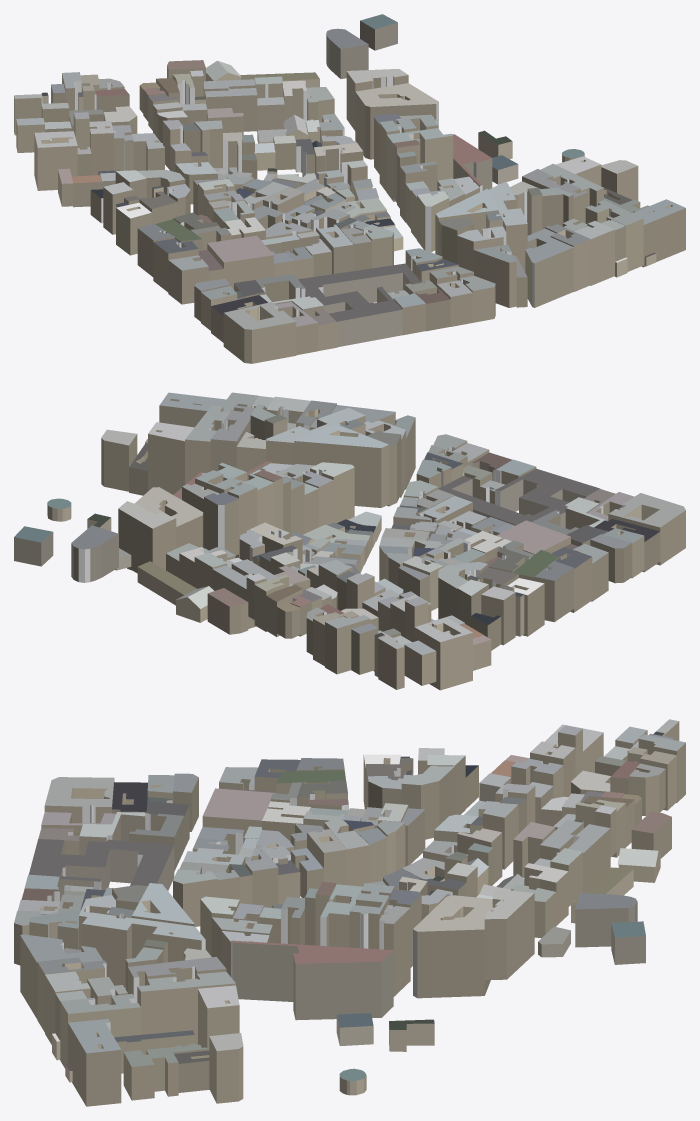
3 views of the same model, one above another, from view 1: azimuth 30°, elevation 25°; view 2: azimuth 150°, elevation 25°; view 3: azimuth 270°, elevation 25° (orthographic). The views are drawn at different scales.
Visible parts, largest first — view 1: tuile; view 2: tuile; view 3: tuile.
Boxes of the visible parts, left/top/right/bottom form: tuile: left=14, top=14, right=685, bottom=363; tuile: left=14, top=392, right=685, bottom=690; tuile: left=14, top=719, right=685, bottom=1106.
Size of the model in its own units: 264 by 53.44 by 261.
